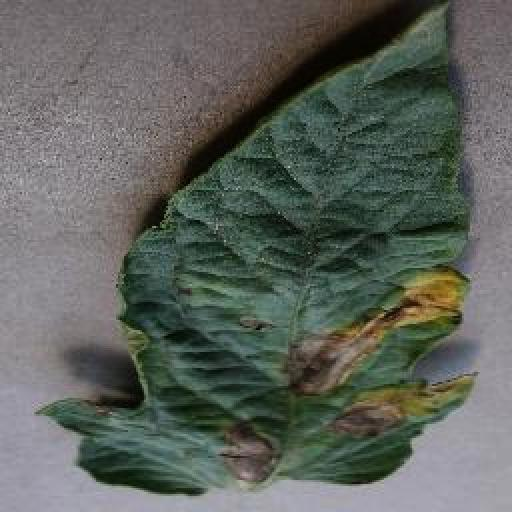disease_tomato: (42, 0, 478, 496)
